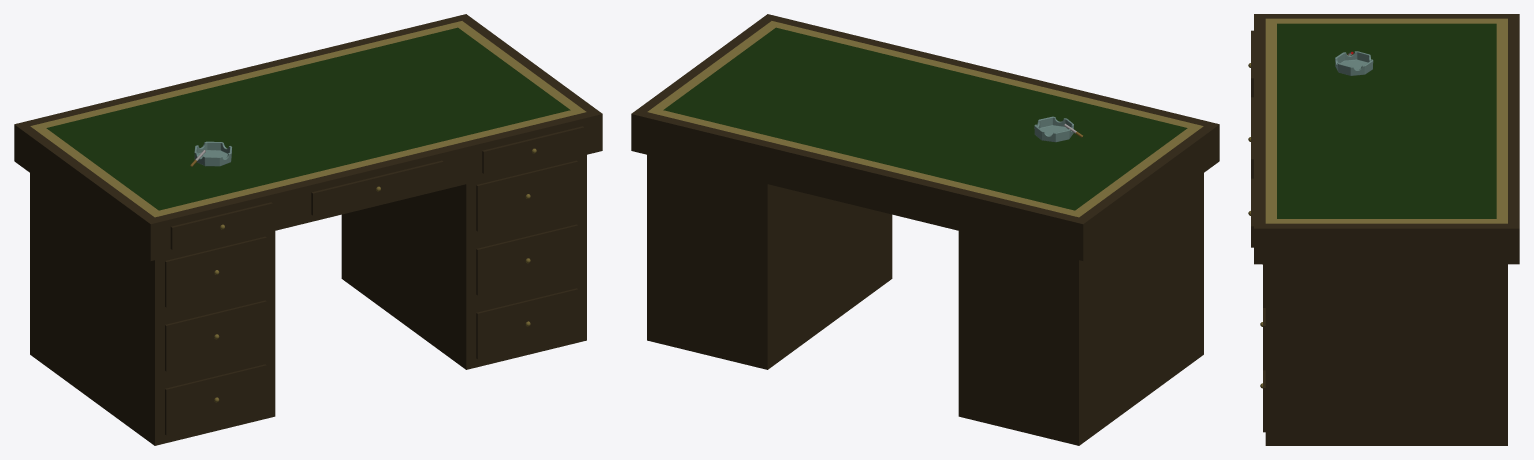
File: fjsw_desk.gltf
The picture shows the model from 3 angles, left to right: view 1: azimuth 30°, elevation 25°; view 2: azimuth 150°, elevation 25°; view 3: azimuth 270°, elevation 25°; orthographic projection. The views are drawn at different scales.
Visible parts, largest first — view 1: Cube, Cylinder.006; view 2: Cube, Cylinder.006; view 3: Cube, Cylinder.006.
Part boxes in pixels (x1,y1,x2,y2): Cube: (14, 14, 602, 445); Cylinder.006: (194, 141, 232, 166); Cube: (631, 14, 1219, 445); Cylinder.006: (1034, 116, 1073, 142); Cube: (1248, 14, 1519, 445); Cylinder.006: (1335, 51, 1373, 75).
Size of the model in its own units: 2.49 by 1.27 by 1.33.
